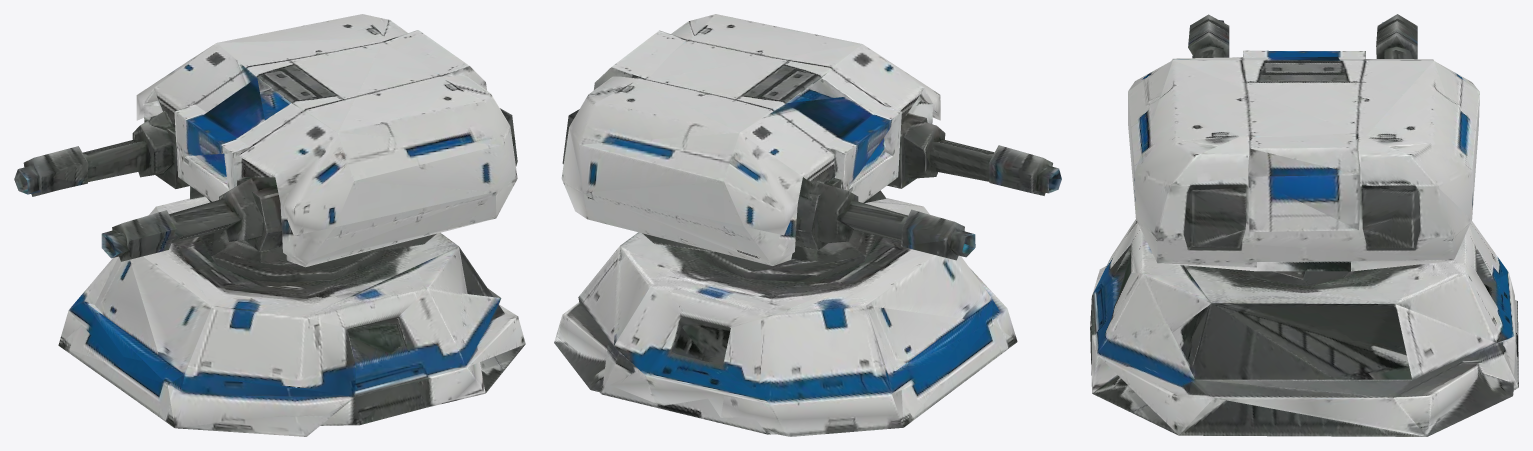
File: gun1.glb
The picture shows the model from 3 angles, left to right: view 1: azimuth 30°, elevation 25°; view 2: azimuth 150°, elevation 25°; view 3: azimuth 270°, elevation 25°; orthographic projection. The views are drawn at different scales.
Visible parts, largest first — view 1: mesh_node; view 2: mesh_node; view 3: mesh_node.
Part boxes in pixels (x1,y1,x2,y2): mesh_node: [14, 14, 525, 436]; mesh_node: [554, 14, 1061, 436]; mesh_node: [1090, 14, 1518, 436].
Bounding box in the file's own units: 0.998 × 0.6133 × 0.8594.
Materials: 1 (1 with a texture image).
